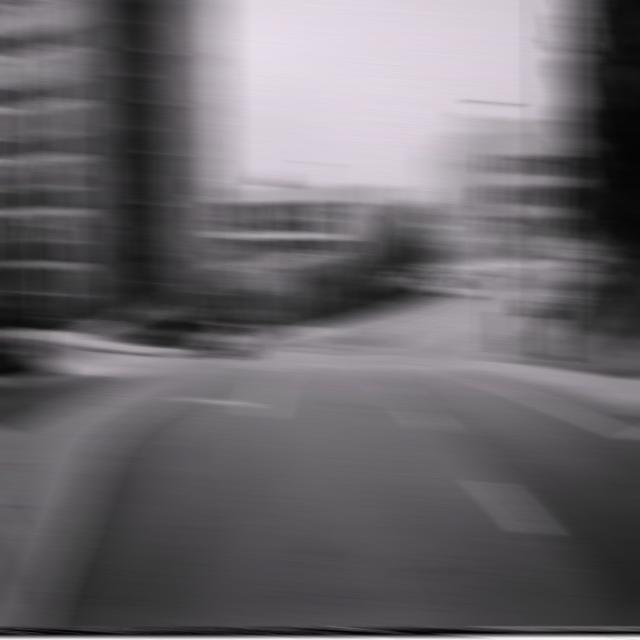stop: (489, 268, 520, 298), (218, 268, 249, 297)
